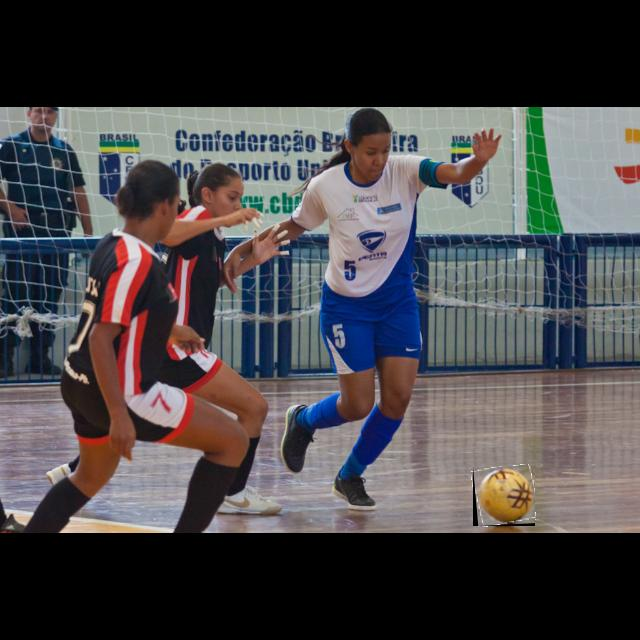Football: (473, 466, 535, 526)
